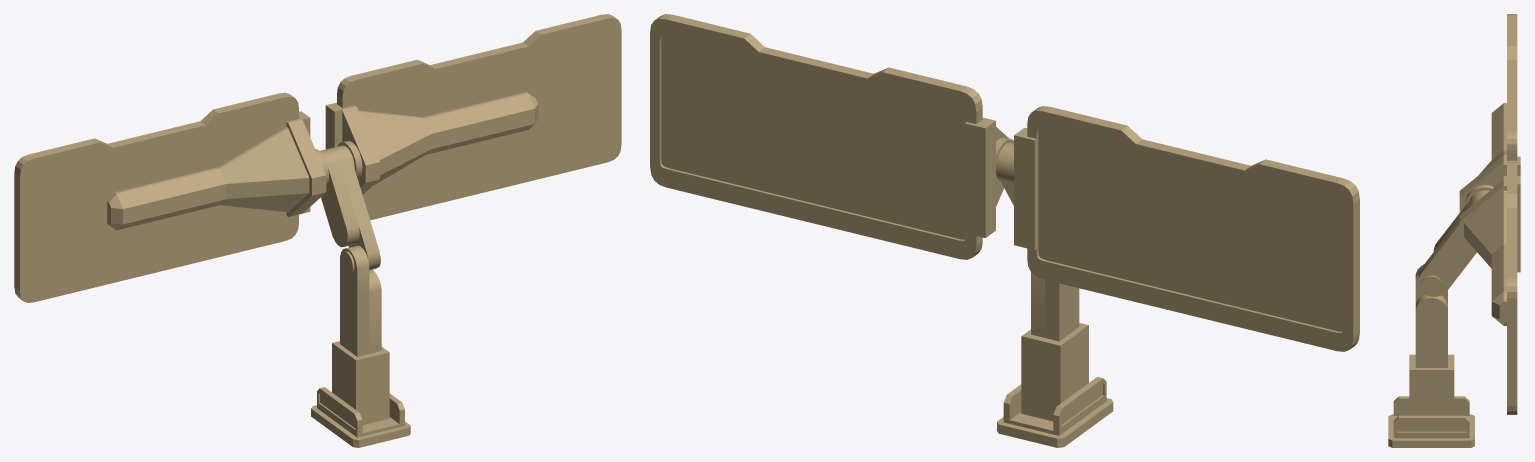
Rendered from Sci-fi_Screens.FBX.
The picture shows the model from 3 angles, left to right: view 1: azimuth 30°, elevation 25°; view 2: azimuth 150°, elevation 25°; view 3: azimuth 270°, elevation 25°; orthographic projection. The views are drawn at different scales.
Parts seen in each view (by area): view 1: Screens, Screen_Base, Screen_Hinge; view 2: Screens, Screen_Base, Screen_Hinge; view 3: Screens, Screen_Base, Screen_Hinge.
Part boxes in pixels (<box>): Screens: <box>14,14,621,302</box>; Screen_Base: <box>311,245,410,447</box>; Screen_Hinge: <box>315,141,380,274</box>; Screens: <box>650,14,1359,351</box>; Screen_Base: <box>997,272,1113,447</box>; Screen_Hinge: <box>996,137,1013,205</box>; Screens: <box>1459,14,1520,414</box>; Screen_Base: <box>1388,264,1474,447</box>; Screen_Hinge: <box>1418,184,1493,296</box>.
Size of the model in its own units: 862 by 420 by 175.
